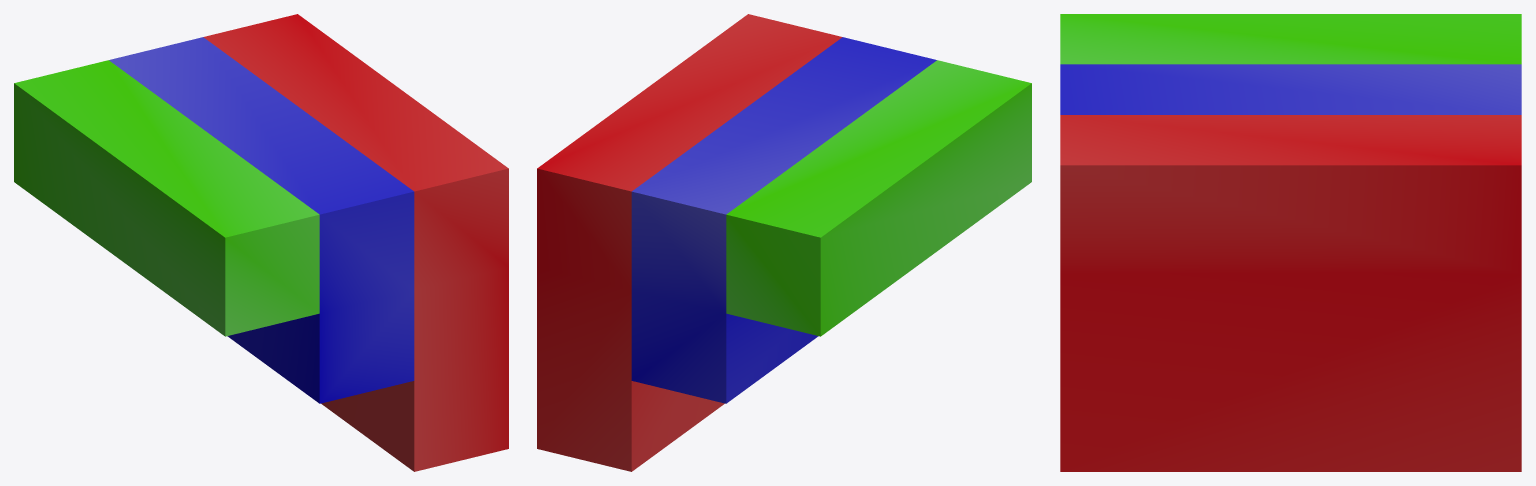
File: stairs.obj
3 renders of one model, left to right at view 1: azimuth 30°, elevation 25°; view 2: azimuth 150°, elevation 25°; view 3: azimuth 270°, elevation 25°, orthographic. The views are drawn at different scales.
Parts seen in each view (by area): view 1: Cube.002, Cube, Cube.001; view 2: Cube.002, Cube, Cube.001; view 3: Cube.002, Cube, Cube.001.
Part boxes in pixels (x1=…): Cube.002: x1=203, y1=14, x2=508, y2=471; Cube: x1=14, y1=60, x2=319, y2=336; Cube.001: x1=109, y1=37, x2=414, y2=403; Cube.002: x1=537, y1=14, x2=842, y2=471; Cube: x1=726, y1=60, x2=1031, y2=336; Cube.001: x1=631, y1=37, x2=936, y2=403; Cube.002: x1=1060, y1=115, x2=1521, y2=471; Cube: x1=1060, y1=14, x2=1521, y2=64; Cube.001: x1=1060, y1=64, x2=1521, y2=114.
Size of the model in its own units: 2.35 by 2.22 by 3.02.
